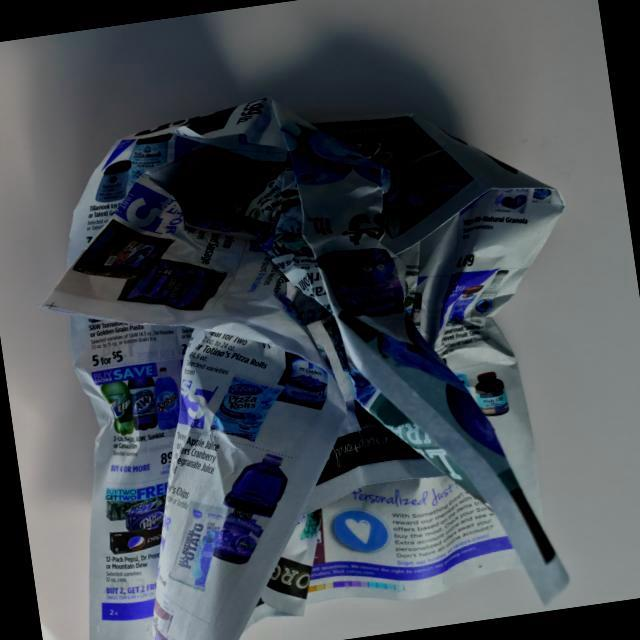paper: (11, 51, 628, 640)
